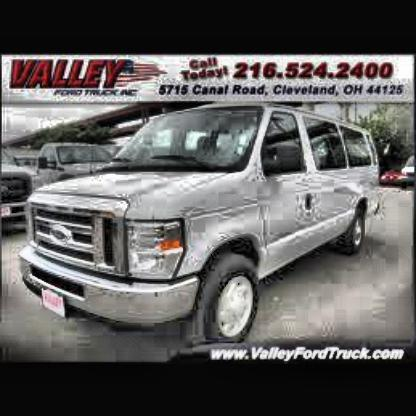Ford E-Series Wagon Van 2012: (22, 108, 378, 348)
